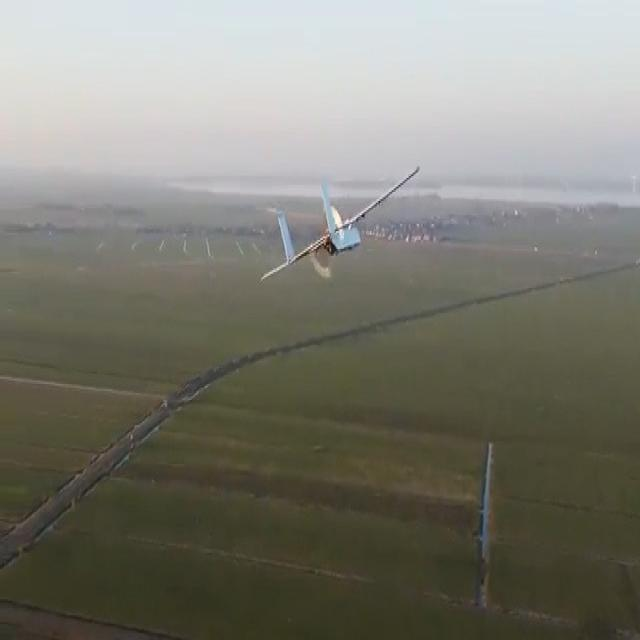iha: (258, 157, 419, 287)
